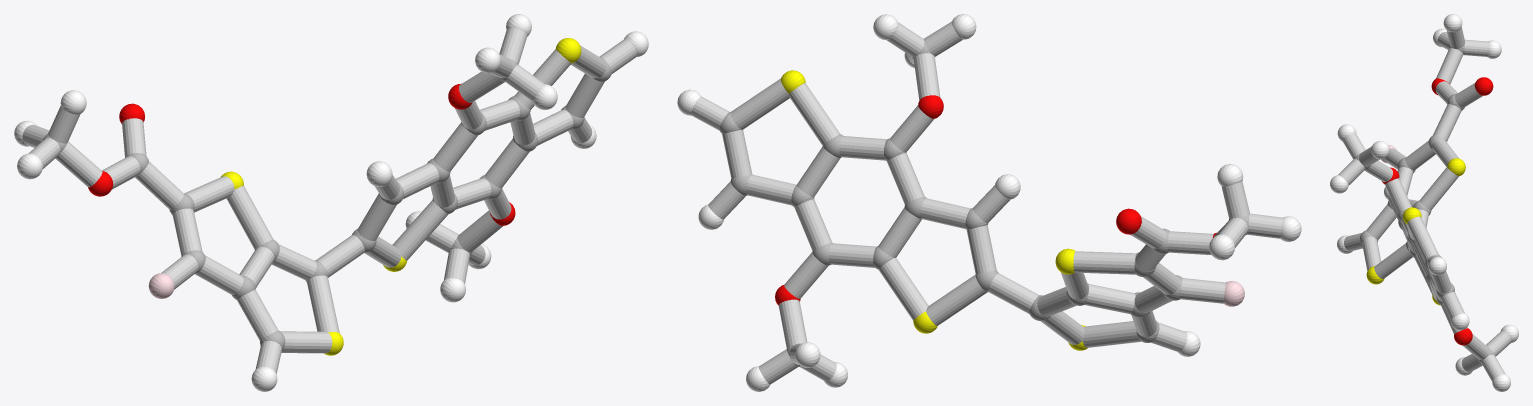
The model's file is Dimethoxy_Benzodithiophene_Phi_25_Theta_240_Methylcarbonyl_3_Fluoro_Thienothiophene.glb.
3 renders of one model, left to right at view 1: azimuth 30°, elevation 25°; view 2: azimuth 150°, elevation 25°; view 3: azimuth 270°, elevation 25°, orthographic. The views are drawn at different scales.
Visible parts, largest first — view 1: grp15205, grp8689, grp1, grp13395, grp7241, grp14843; view 2: grp15205, grp8689, grp1, grp13395, grp7241; view 3: grp15205, grp8689, grp1, grp13395, grp7241.
Boxes of the visible parts, <box> form: grp15205: <box>22,28,637,373</box>; grp8689: <box>14,14,648,391</box>; grp1: <box>43,57,611,350</box>; grp13395: <box>88,83,515,225</box>; grp7241: <box>221,38,581,355</box>; grp14843: <box>148,273,174,298</box>; grp15205: <box>691,21,1282,384</box>; grp8689: <box>677,14,1301,391</box>; grp1: <box>719,43,1249,366</box>; grp13395: <box>775,95,1216,305</box>; grp7241: <box>781,70,1087,350</box>; grp15205: <box>1338,27,1511,381</box>; grp8689: <box>1330,14,1518,391</box>; grp1: <box>1354,44,1494,362</box>; grp13395: <box>1382,77,1493,345</box>; grp7241: <box>1366,158,1465,305</box>.
Size of the model in its own units: 16.67 by 8.33 by 6.06.
